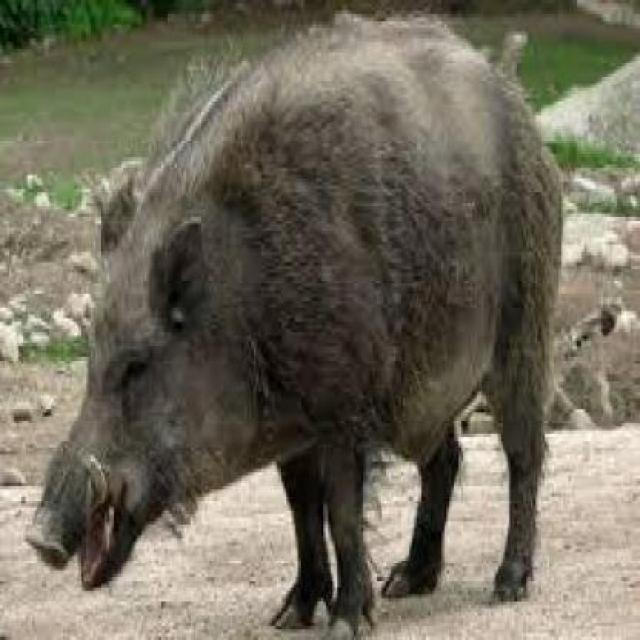wildboar: (19, 3, 566, 640)
